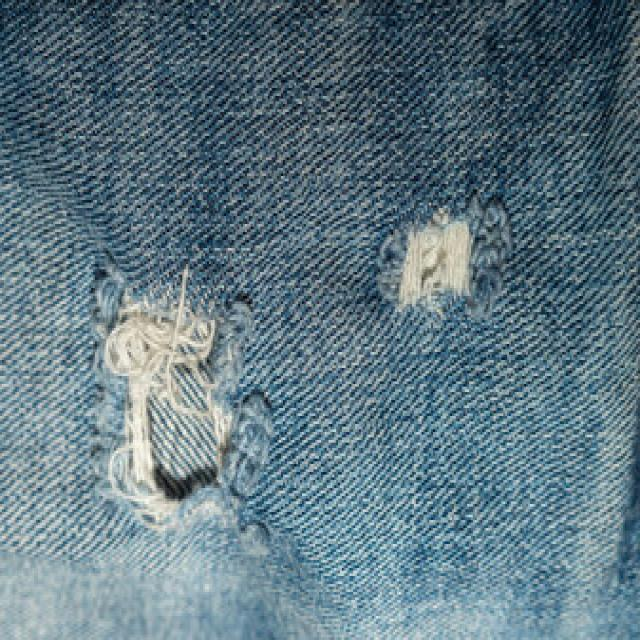Hole: (94, 264, 273, 556), (400, 212, 471, 307)
